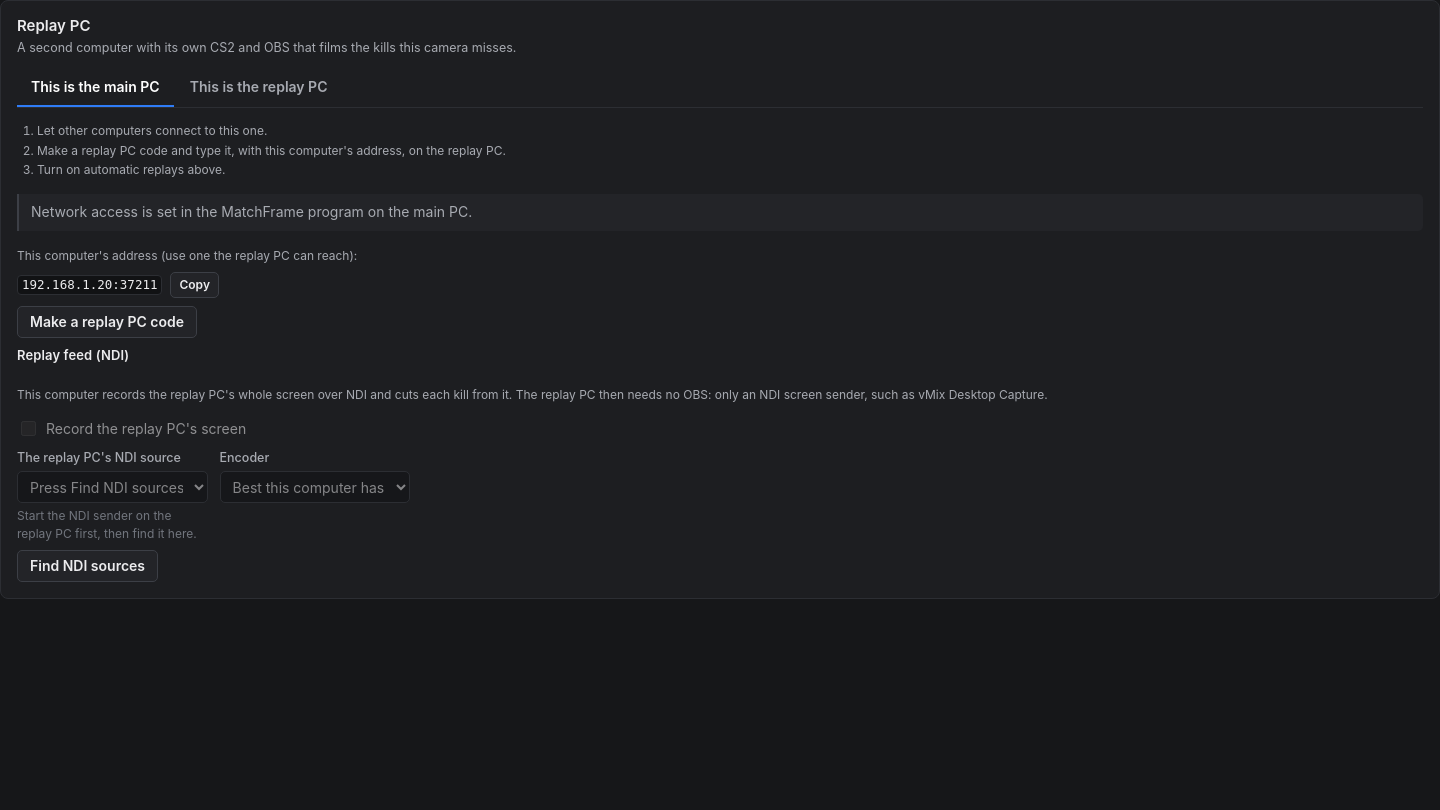
Replay PC panel › makes a replay PC code on the main PC
Expected: the text "192.168.1.20:37211" is shown, [17,275,162,295]
Click the button "Make a replay PC code" at (107, 322), box [17,306,197,338]
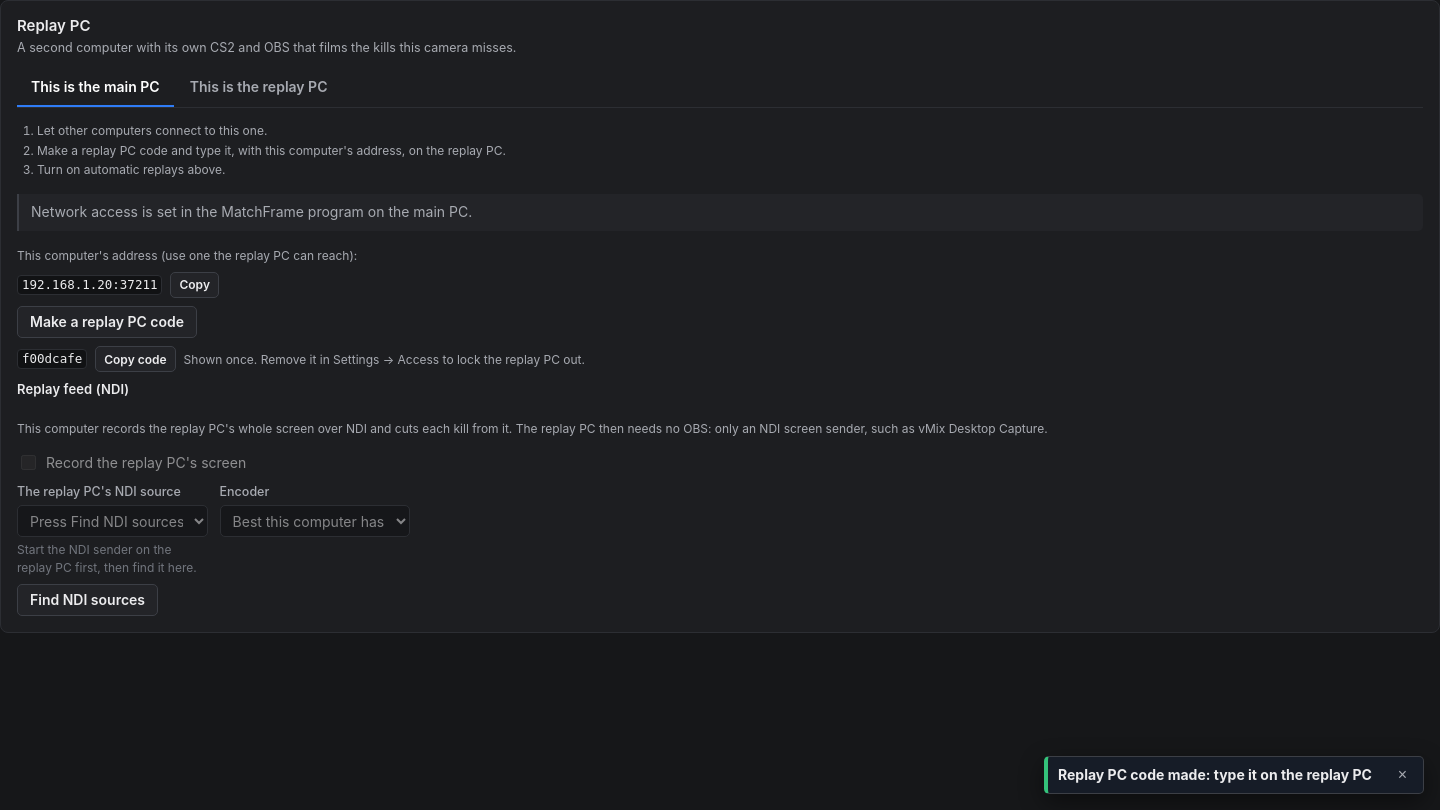
Now the text "f00dcafe" is shown, box [17,349,87,369]
